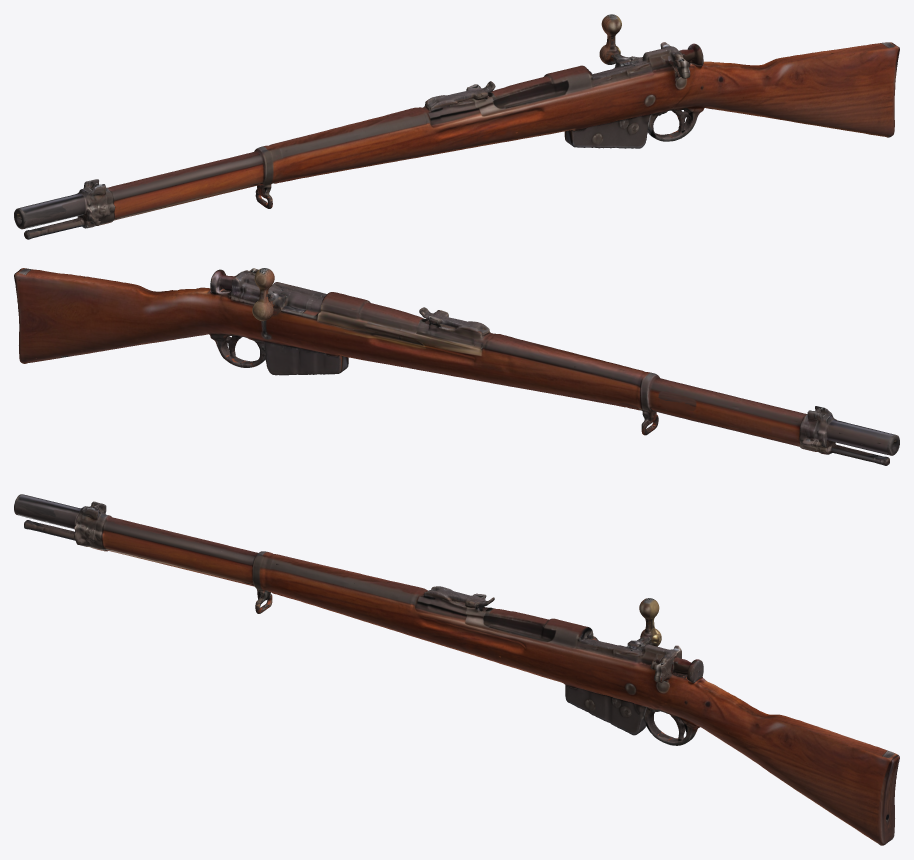
Rendered from Carcano_1030144929_texture.fbx.
3 renders of one model, top to bottom at view 1: azimuth 30°, elevation 25°; view 2: azimuth 150°, elevation 25°; view 3: azimuth 330°, elevation 25°, orthographic.
Visible parts, largest first — view 1: input; view 2: input; view 3: input.
Part boxes in pixels (box(x1,y1,x2,y2)): input: box(14, 14, 899, 239); input: box(14, 268, 899, 465); input: box(14, 494, 899, 845).
Bounding box in the file's own units: 190 × 34.88 × 15.17.
1 material, 1 textured.
